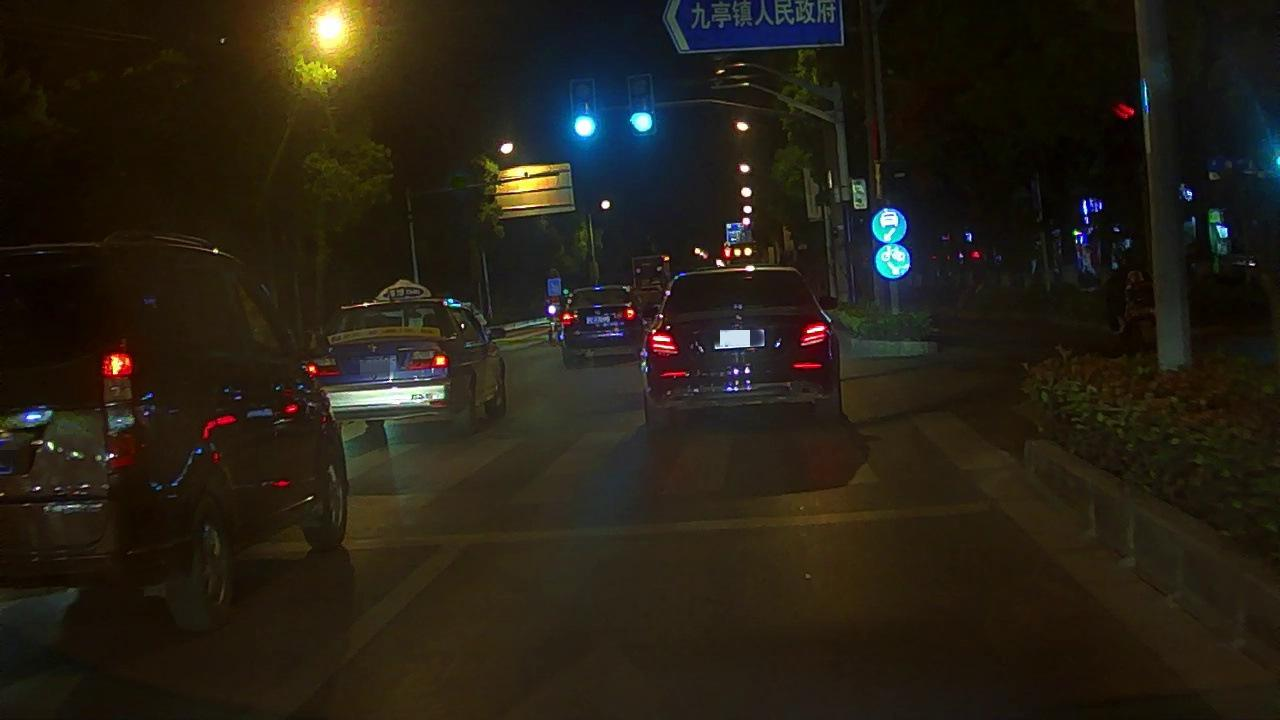traffic_light: (629, 75, 655, 136), (572, 79, 597, 140)
